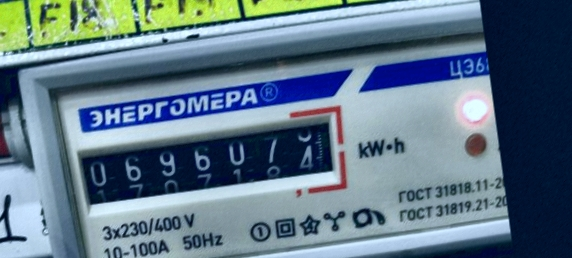0: (84, 157, 108, 189), (224, 135, 247, 167)
4: (292, 142, 315, 172)
6: (118, 151, 144, 184), (189, 142, 212, 172)
7: (259, 132, 279, 164)
9: (155, 148, 176, 179)
screen: (57, 98, 351, 225)
